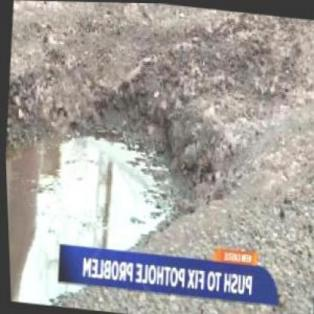Hueco: (1, 48, 254, 313)
